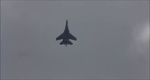maybay_muctieu: (56, 18, 78, 47)
